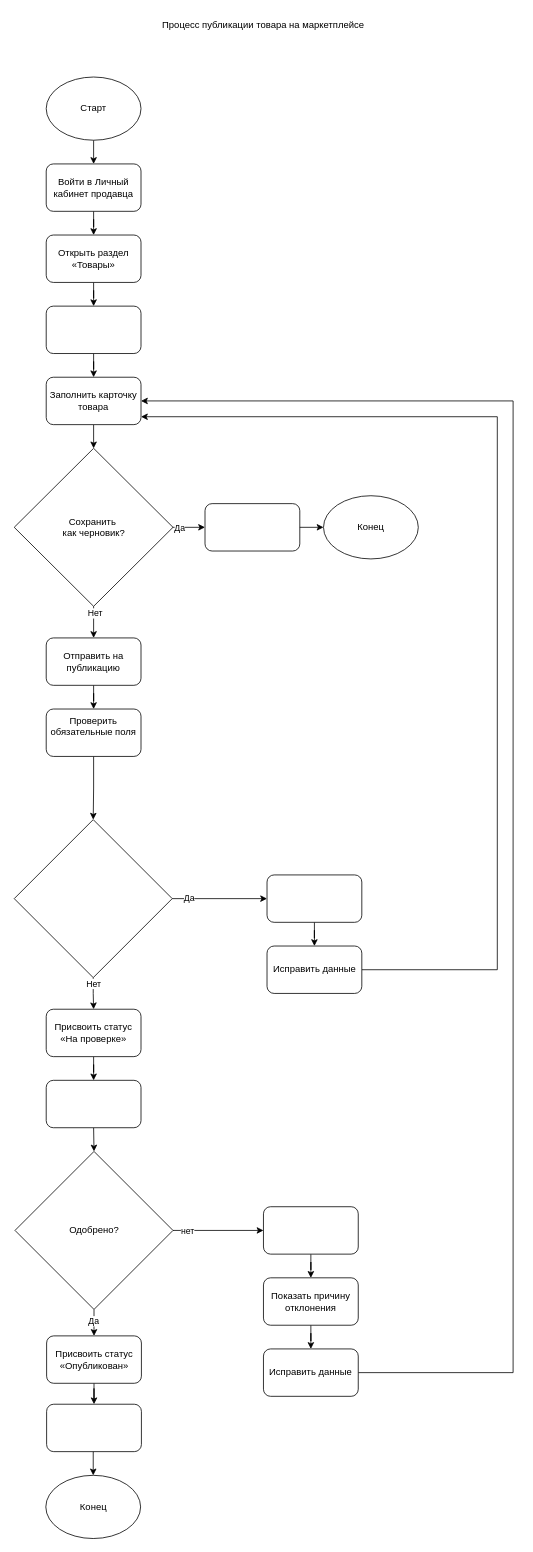
Some shapes in this 533 by 1552 pixel diagram are drawn without their labels. Here are the shapes that lost their labels. From the top down, the box of each, then its label:
(45, 305, 141, 354): Нажать «Добавить товар»
(204, 503, 300, 551): Сохранить карточку в статусе «Черновик»
(13, 819, 172, 978): Есть ошибки?
(266, 874, 362, 922): Показать ошибки
(45, 1080, 141, 1128): Модерация товара
(263, 1206, 358, 1254): Присвоить статус «Отклонён»
(46, 1403, 141, 1452): Опубликовать товар на витрине
